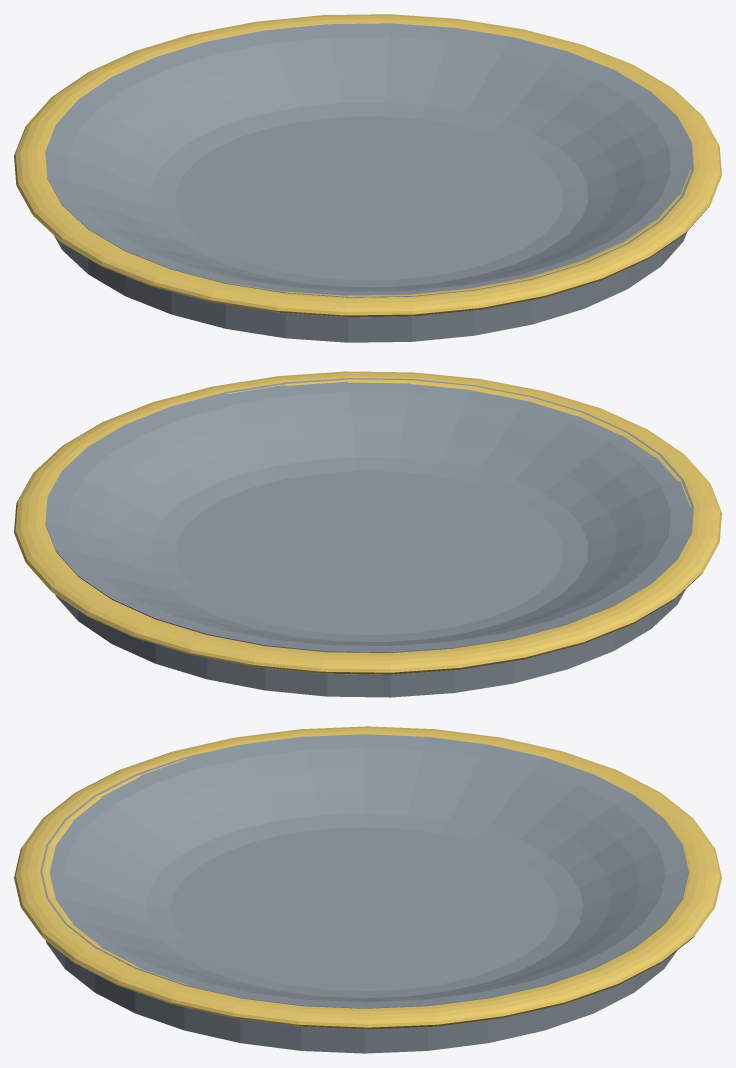
The model's file is Dish.fbx.
The picture shows the model from 3 angles, top to bottom: view 1: azimuth 30°, elevation 25°; view 2: azimuth 150°, elevation 25°; view 3: azimuth 270°, elevation 25°; orthographic projection.
Visible parts, largest first — view 1: Cilindro; view 2: Cilindro; view 3: Cilindro.
Part boxes in pixels (x1=…): Cilindro: x1=14, y1=14, x2=721, y2=342; Cilindro: x1=14, y1=371, x2=721, y2=697; Cilindro: x1=14, y1=726, x2=721, y2=1053.
Bounding box in the file's own units: 65.48 × 4.62 × 65.48.
